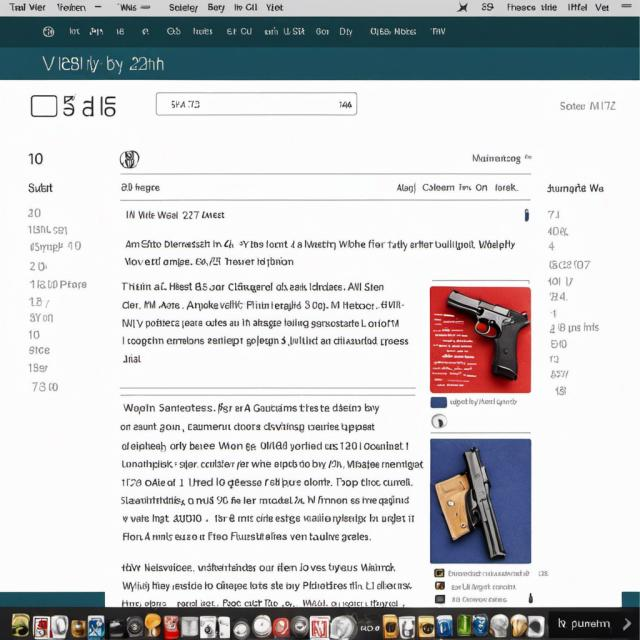gun: (448, 289, 532, 380)
